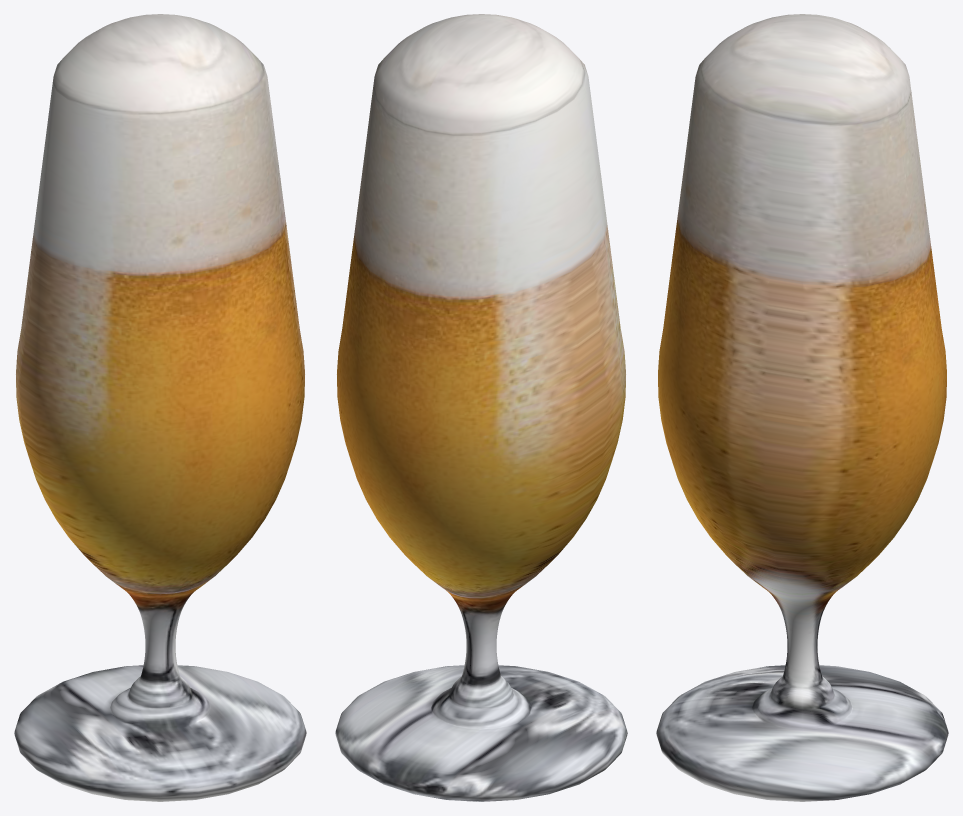
The model's file is beer.glb.
The picture shows the model from 3 angles, left to right: view 1: azimuth 30°, elevation 25°; view 2: azimuth 150°, elevation 25°; view 3: azimuth 270°, elevation 25°; orthographic projection.
Visible parts, largest first — view 1: beer; view 2: beer; view 3: beer.
Boxes of the visible parts, x1=… form: beer: x1=14, y1=14, x2=306, y2=801; beer: x1=335, y1=14, x2=627, y2=801; beer: x1=656, y1=14, x2=948, y2=801.
Size of the model in its own units: 0.6118 by 1.69 by 0.6118.
1 material, 1 textured.
